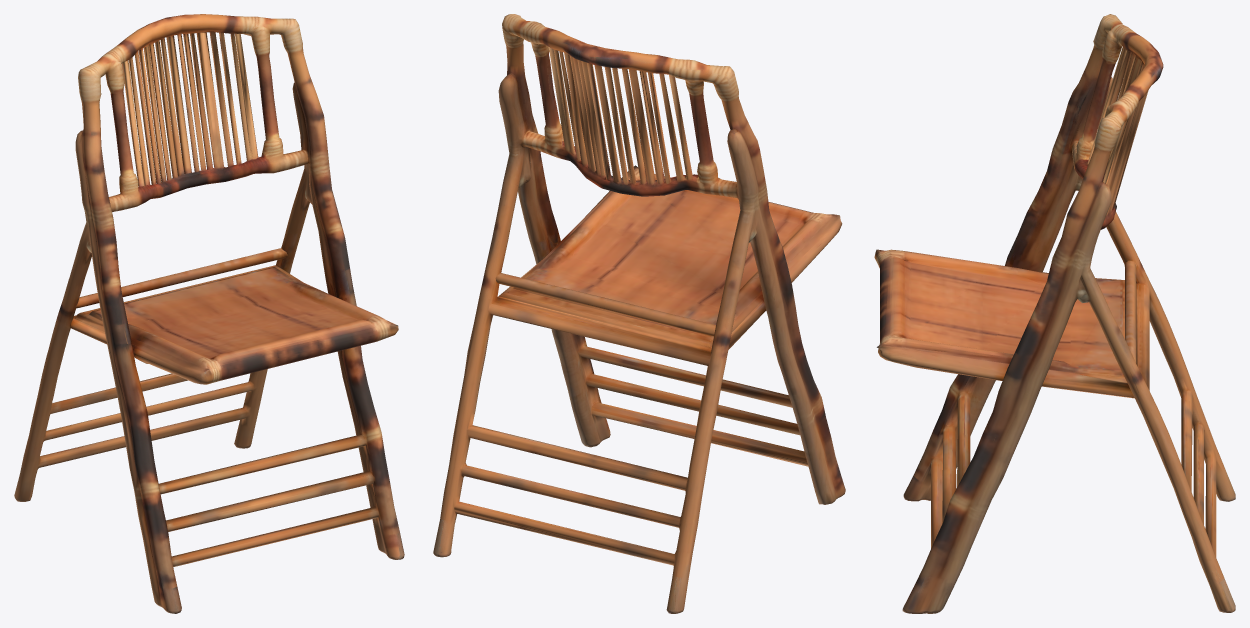
The model's file is Bamboo_Folding_Chair__0320031207_texture.glb.
The picture shows the model from 3 angles, left to right: view 1: azimuth 30°, elevation 25°; view 2: azimuth 150°, elevation 25°; view 3: azimuth 270°, elevation 25°; orthographic projection. The views are drawn at different scales.
Parts seen in each view (by area): view 1: Mesh_0.002; view 2: Mesh_0.002; view 3: Mesh_0.002.
Boxes of the visible parts, x1,y1,x2,y2 form: Mesh_0.002: (14, 14, 404, 613); Mesh_0.002: (433, 14, 845, 613); Mesh_0.002: (874, 14, 1235, 613).
Bounding box in the file's own units: 0.475 × 0.9144 × 0.6008.
Materials: 1 (1 with a texture image).
